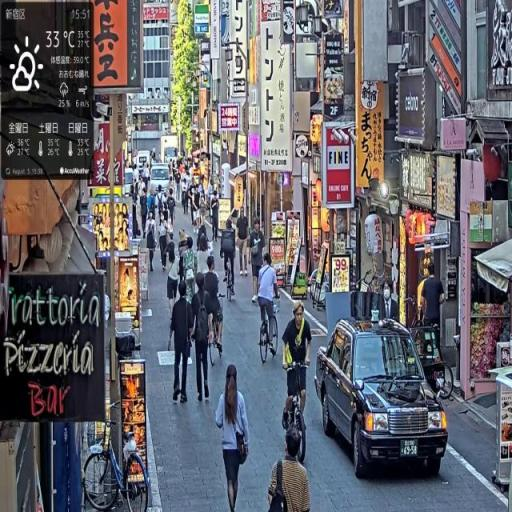person: (213, 362, 251, 512), (283, 301, 313, 439), (267, 429, 313, 512), (189, 268, 216, 407), (169, 283, 195, 405), (420, 261, 448, 364), (255, 251, 281, 350), (204, 254, 224, 354), (220, 214, 239, 300), (249, 215, 267, 305), (237, 208, 251, 276), (148, 214, 159, 275), (211, 190, 221, 240)
